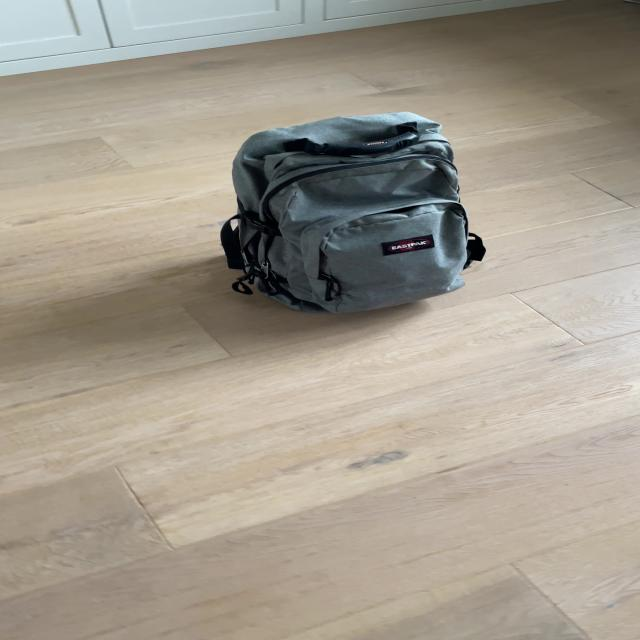backpack: (210, 101, 490, 321)
